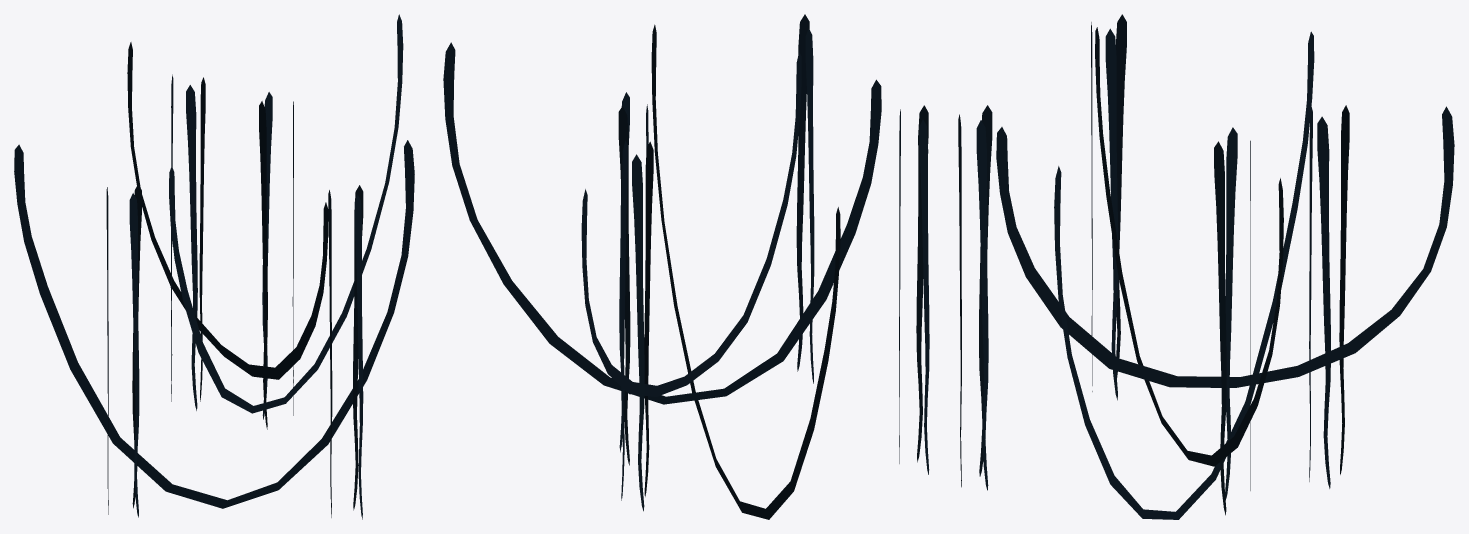
3 views of the same model, side by side, from view 1: azimuth 30°, elevation 25°; view 2: azimuth 150°, elevation 25°; view 3: azimuth 270°, elevation 25° (orthographic). The views are drawn at different scales.
Visible parts, largest first — view 1: Plane_003; view 2: Plane_003; view 3: Plane_003.
Boxes of the visible parts, left/top/right/bottom form: Plane_003: left=14, top=14, right=414, bottom=519; Plane_003: left=443, top=14, right=929, bottom=519; Plane_003: left=958, top=14, right=1454, bottom=519.
Size of the model in its own units: 20.6 by 21.39 by 20.66.
